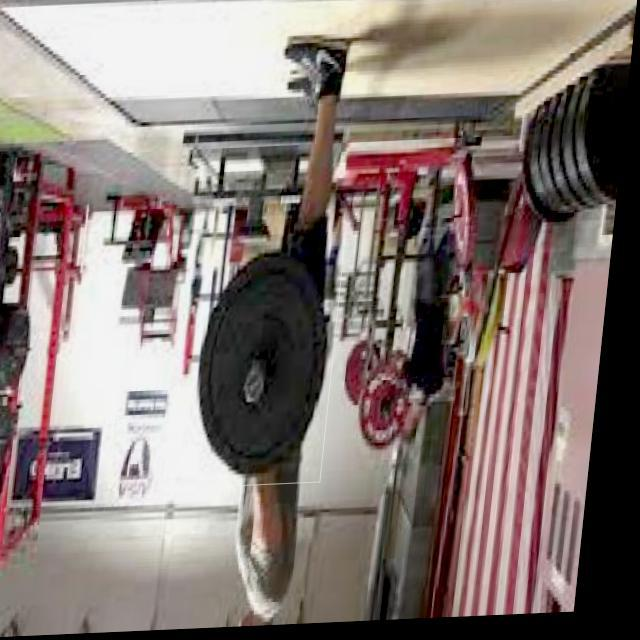barbell: (185, 238, 353, 492)
